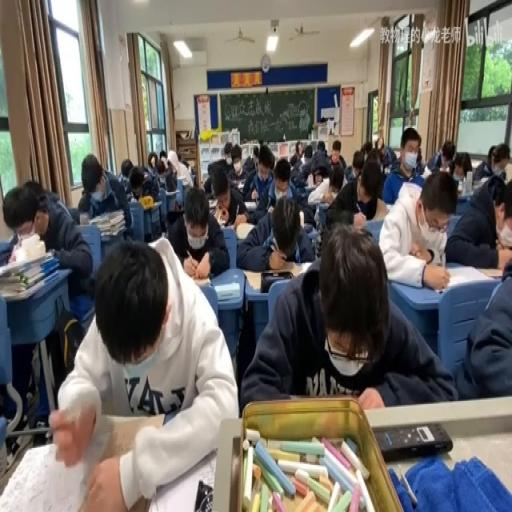calculator: (0, 410, 162, 509), (149, 449, 220, 512), (2, 270, 55, 299), (5, 232, 46, 266), (442, 264, 494, 286), (214, 282, 240, 300), (235, 222, 256, 240), (295, 259, 317, 276), (166, 206, 184, 225), (305, 227, 319, 249), (190, 276, 211, 286), (472, 176, 486, 190), (215, 218, 234, 228), (456, 189, 470, 202), (74, 219, 92, 229), (302, 184, 316, 194), (164, 186, 177, 196), (207, 196, 216, 209), (243, 201, 256, 209), (235, 179, 245, 189)
paper: (242, 225, 454, 411), (2, 176, 94, 428), (444, 170, 511, 268), (236, 191, 314, 270), (168, 184, 230, 280), (78, 151, 133, 240), (380, 125, 426, 206), (344, 156, 386, 220), (126, 164, 162, 236), (470, 142, 508, 182), (206, 140, 236, 186), (154, 149, 180, 189), (427, 140, 456, 174), (288, 145, 310, 181), (324, 205, 351, 230), (309, 146, 329, 178), (451, 150, 471, 180), (486, 173, 506, 202), (241, 142, 257, 176), (328, 140, 345, 170), (258, 144, 274, 174), (22, 178, 44, 199), (274, 164, 290, 188), (363, 145, 379, 166), (120, 158, 134, 179), (230, 145, 242, 168), (343, 165, 354, 183), (148, 152, 158, 171), (178, 154, 190, 169), (130, 181, 140, 196), (188, 166, 195, 184), (416, 146, 422, 164), (315, 141, 325, 151), (253, 145, 259, 158), (374, 138, 379, 149), (304, 152, 310, 161)
person: (374, 422, 451, 461), (261, 270, 294, 292)
